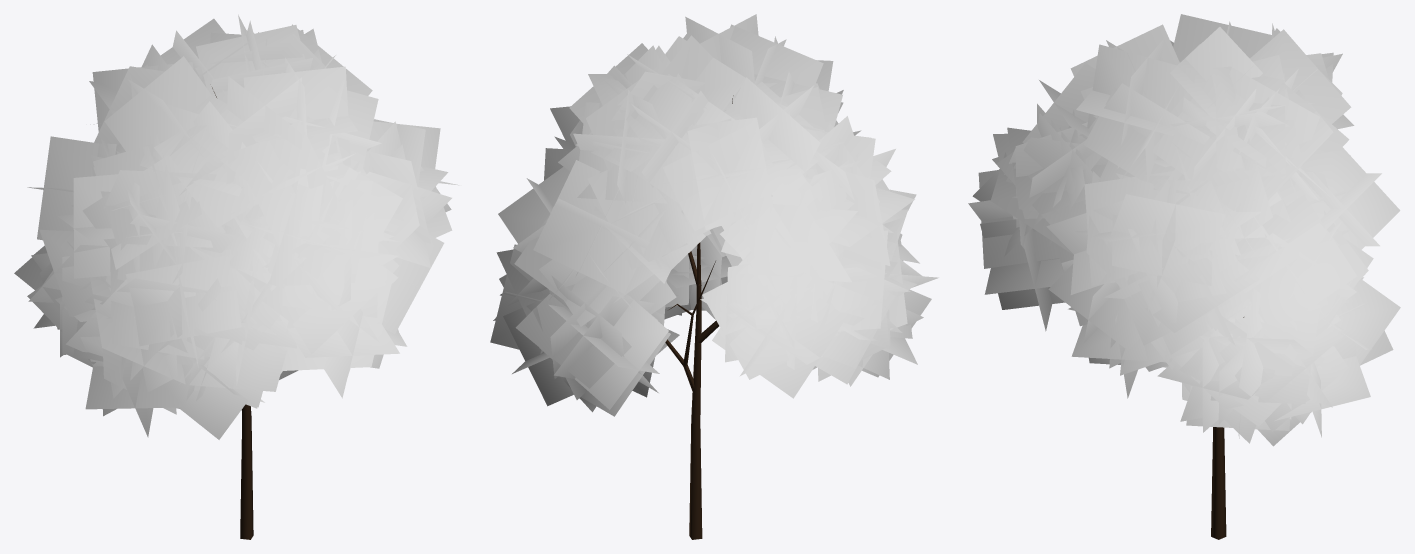
The model's file is StylizedTree_LOD2.fbx.
3 views of the same model, side by side, from view 1: azimuth 30°, elevation 25°; view 2: azimuth 150°, elevation 25°; view 3: azimuth 270°, elevation 25° (orthographic). The views are drawn at different scales.
Parts seen in each view (by area): view 1: Leaf_LOD2, Trunk_LOD2; view 2: Leaf_LOD2, Trunk_LOD2; view 3: Leaf_LOD2, Trunk_LOD2.
Boxes of the visible parts, x1,y1,x2,y2 form: Leaf_LOD2: (14,14,459,439); Trunk_LOD2: (212,87,253,539); Leaf_LOD2: (490,14,938,416); Trunk_LOD2: (665,95,733,539); Leaf_LOD2: (968,14,1400,446); Trunk_LOD2: (1211,317,1243,539).
Bounding box in the file's own units: 5.74 × 7.38 × 5.65.
